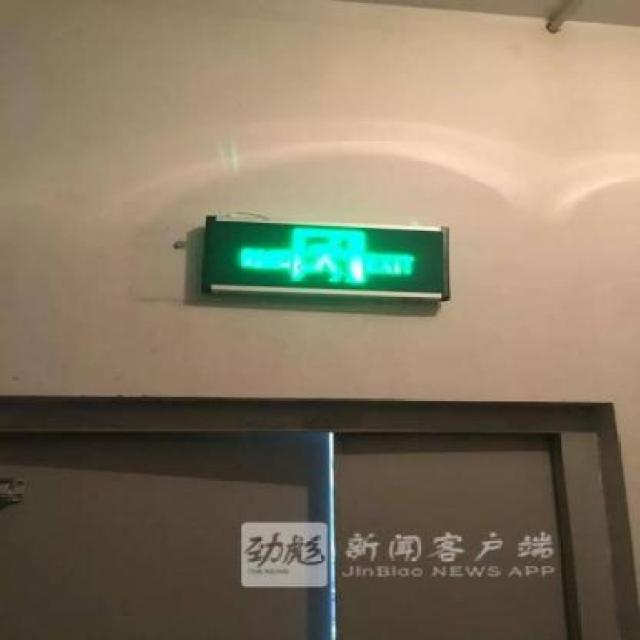exit_sign: (197, 214, 458, 310)
